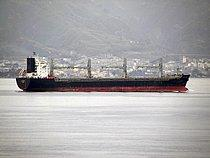Ship: (14, 47, 193, 95)
